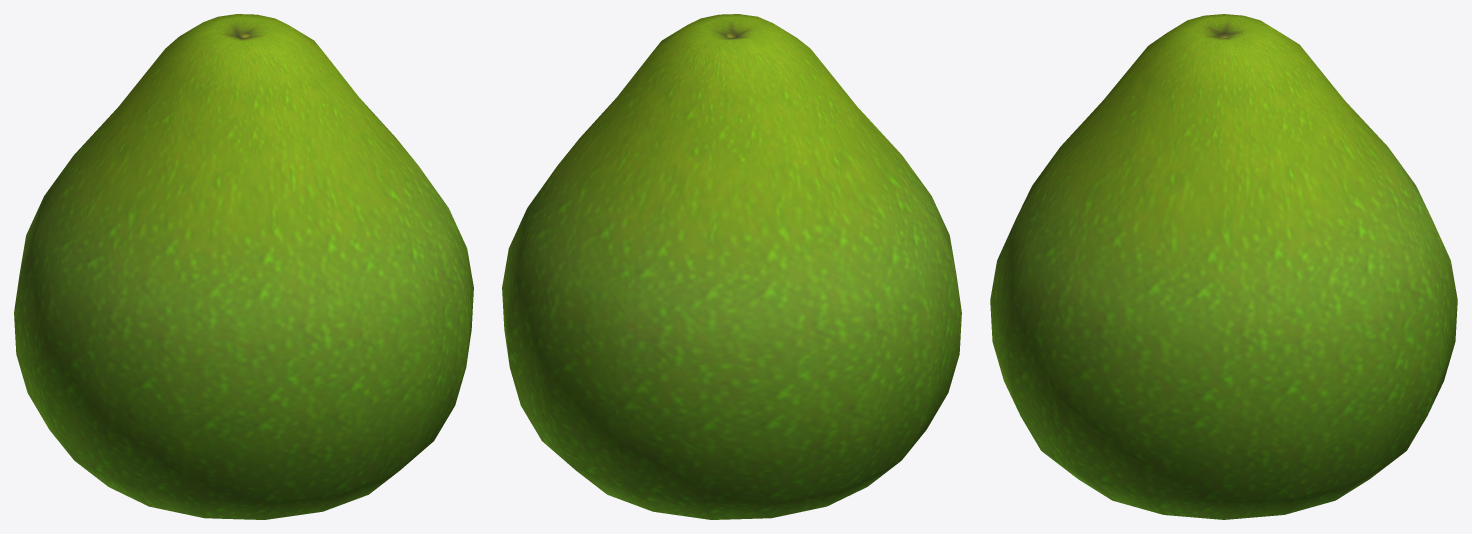
Rendered from Pomelo_Green.fbx.
3 views of the same model, side by side, from view 1: azimuth 30°, elevation 25°; view 2: azimuth 150°, elevation 25°; view 3: azimuth 270°, elevation 25° (orthographic).
Visible parts, largest first — view 1: Pomelo_Green; view 2: Pomelo_Green; view 3: Pomelo_Green.
Part boxes in pixels (bbox=[...]): Pomelo_Green: bbox=[14, 14, 473, 519]; Pomelo_Green: bbox=[502, 14, 961, 519]; Pomelo_Green: bbox=[990, 14, 1457, 519].
Size of the model in its own units: 45.75 by 50.28 by 46.21.
